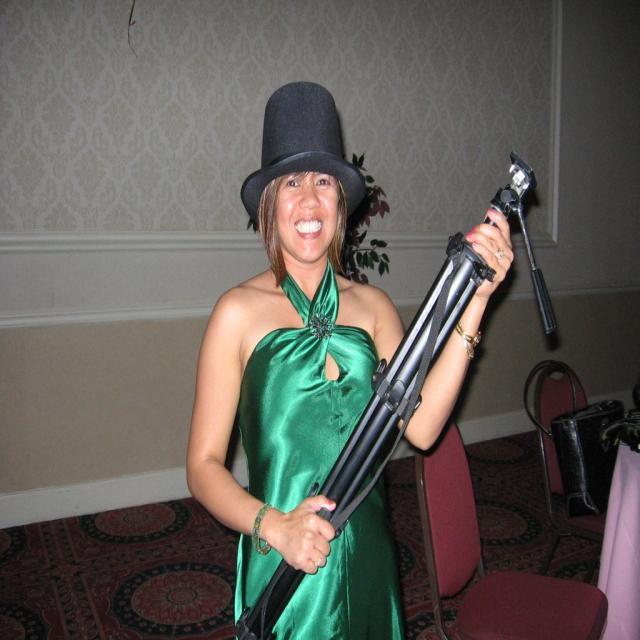Hat: (238, 68, 368, 220)
